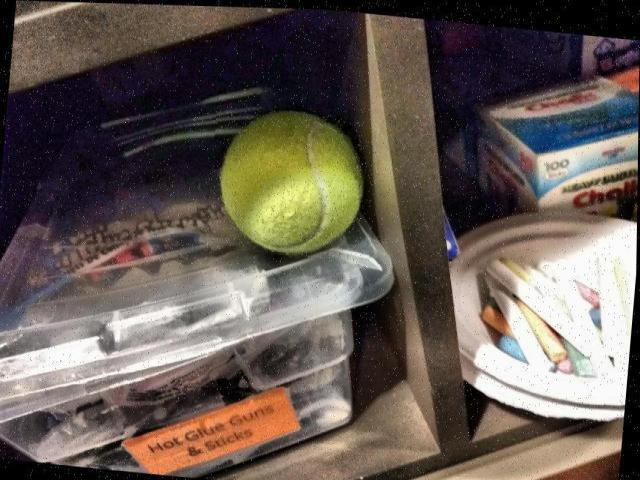tennis-ball: (206, 102, 382, 262)
